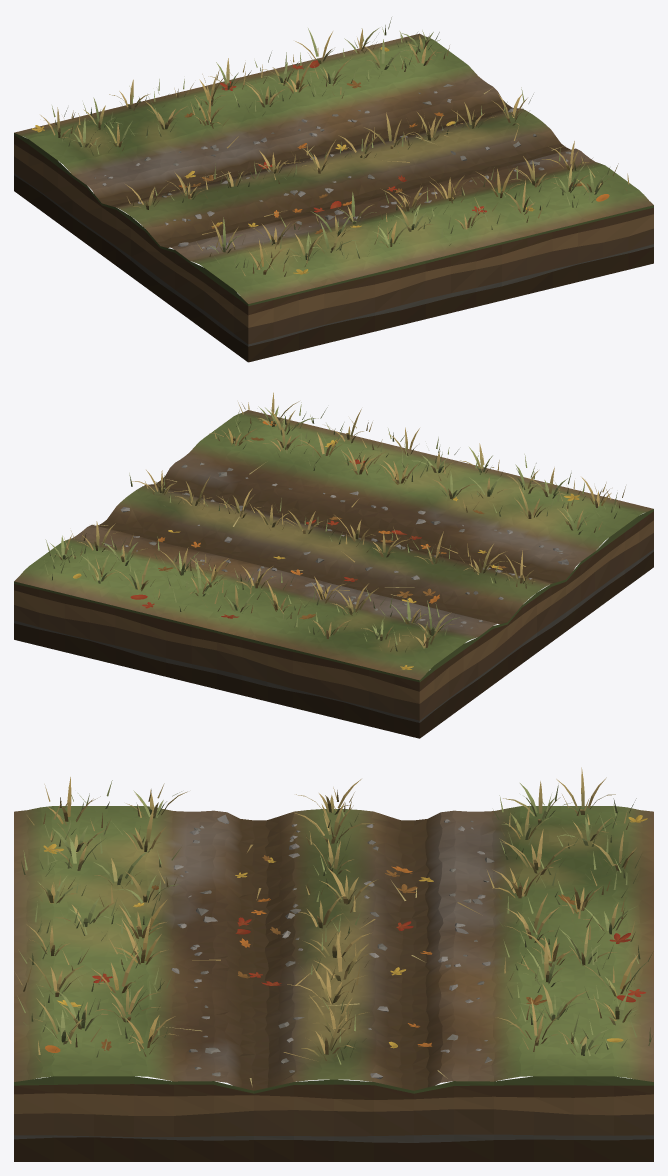
Rendered from farm-lane.glb.
3 renders of one model, top to bottom at view 1: azimuth 30°, elevation 25°; view 2: azimuth 150°, elevation 25°; view 3: azimuth 270°, elevation 25°, orthographic. The views are drawn at different scales.
Parts seen in each view (by area): view 1: farm_lane; view 2: farm_lane; view 3: farm_lane.
Part boxes in pixels (<box>): farm_lane: <box>14,17,653,362</box>; farm_lane: <box>14,392,653,738</box>; farm_lane: <box>14,767,653,1161</box>.
Bounding box in the file's own units: 4 × 0.8943 × 4.
